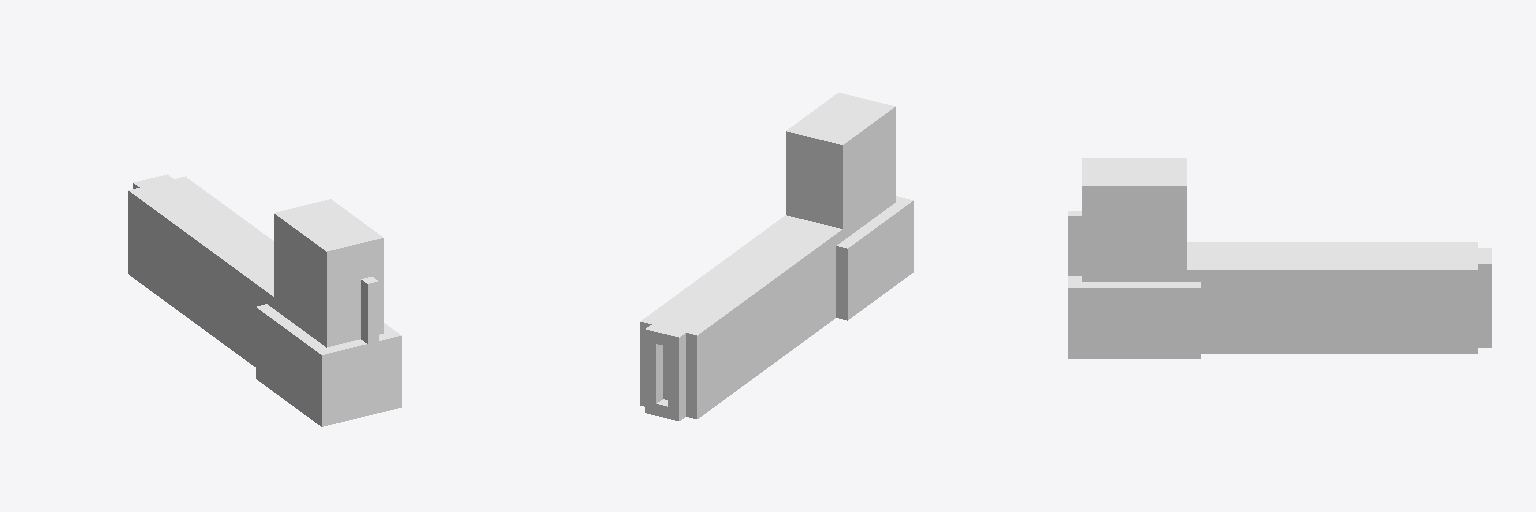
The model's file is BossGunStg1.obj.
3 views of the same model, side by side, from view 1: azimuth 30°, elevation 25°; view 2: azimuth 150°, elevation 25°; view 3: azimuth 270°, elevation 25° (orthographic).
Bounding box in the file's own units: 7 × 14 × 32.